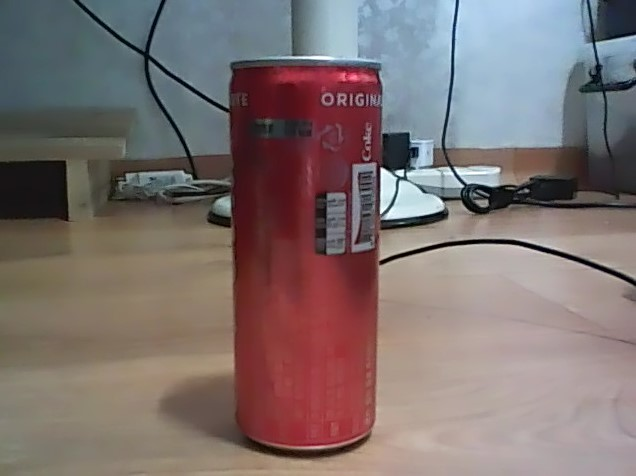Can: (223, 49, 388, 456)
